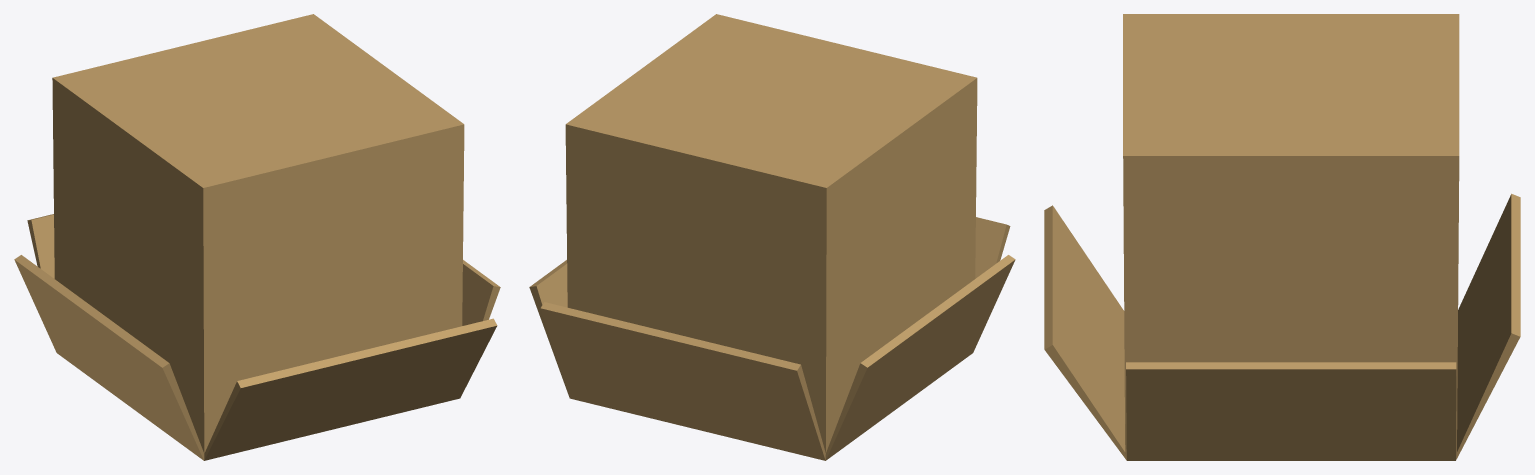
Rendered from CardboardBox_3.fbx.
The picture shows the model from 3 angles, left to right: view 1: azimuth 30°, elevation 25°; view 2: azimuth 150°, elevation 25°; view 3: azimuth 270°, elevation 25°; orthographic projection. The views are drawn at different scales.
Visible parts, largest first — view 1: CardboardBox.001; view 2: CardboardBox.001; view 3: CardboardBox.001.
Part boxes in pixels (x1,y1,x2,y2): CardboardBox.001: (14,14,500,460); CardboardBox.001: (529,14,1015,460); CardboardBox.001: (1044,14,1520,460).
Size of the model in its own units: 288 by 205 by 264.
